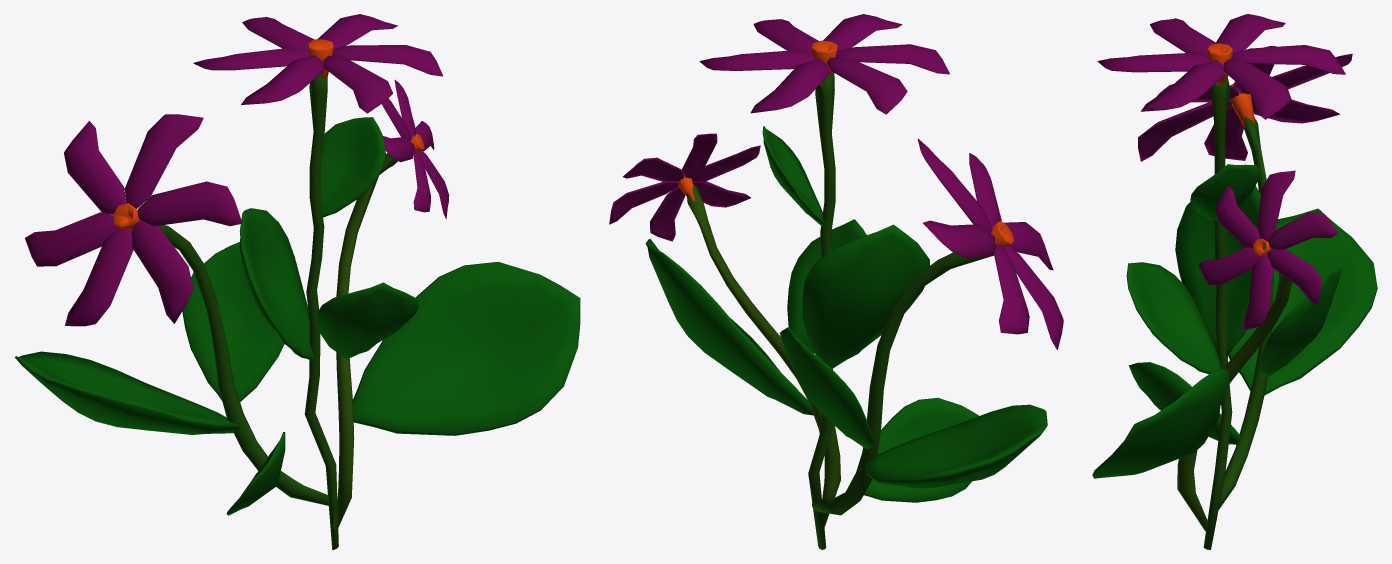
The model's file is Flower_Shefali.fbx.
3 views of the same model, side by side, from view 1: azimuth 30°, elevation 25°; view 2: azimuth 150°, elevation 25°; view 3: azimuth 270°, elevation 25° (orthographic). The views are drawn at different scales.
Visible parts, largest first — view 1: Shefali; view 2: Shefali; view 3: Shefali.
Part boxes in pixels (bbox=[...]): Shefali: bbox=[15, 14, 580, 549]; Shefali: bbox=[609, 14, 1063, 549]; Shefali: bbox=[1092, 14, 1377, 549].
Bounding box in the file's own units: 9.43 × 9.58 × 4.98.
